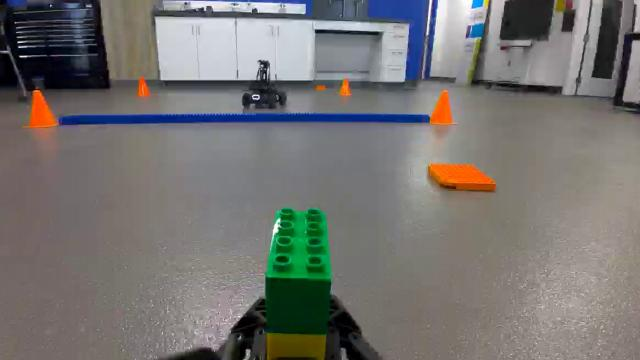robot: (234, 56, 290, 112)
